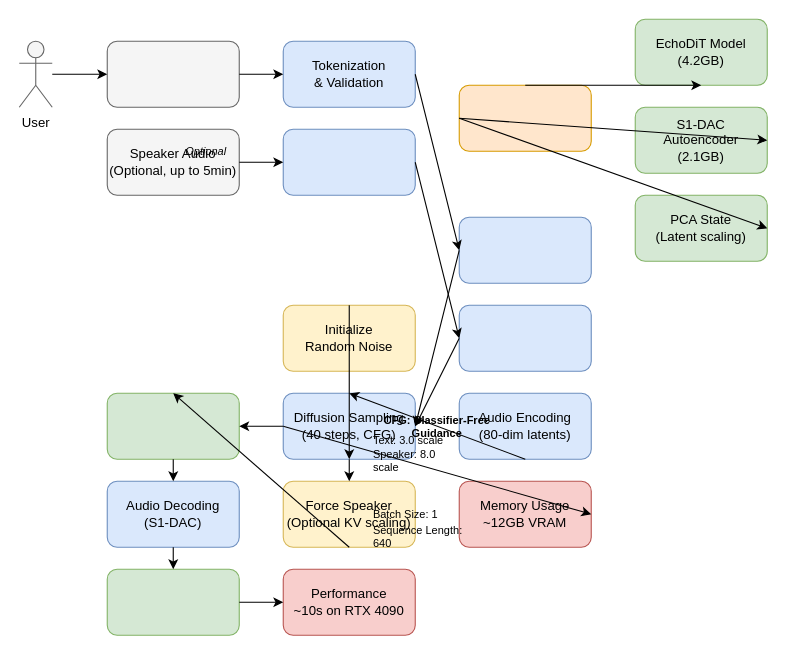
This 795x655 diagram has some shape labels left out. The shapes that lost their labels are listed below. From the top down, each one's centre as x and y in pixels, then its label:
(x=172, y=73): Text Input "[S1] Hello world"
(x=524, y=117): Load Models from HuggingFace Hub
(x=348, y=161): Audio Preprocessing (44.1kHz → 22.05kHz)
(x=524, y=249): Text Encoding (256 tokens)
(x=524, y=337): Speaker Encoding (Patchified)
(x=172, y=425): Generated Latents (640 × 80)
(x=172, y=601): Output Audio (44.1kHz, ~30s)
